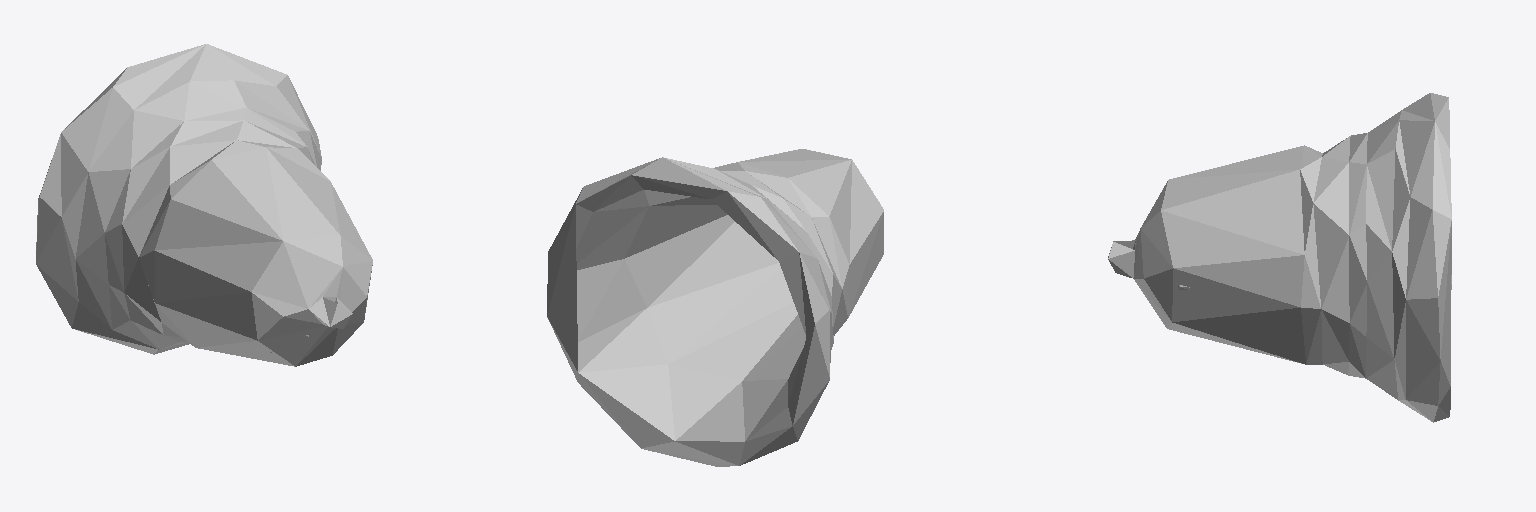
File: bell.obj
3 renders of one model, left to right at view 1: azimuth 30°, elevation 25°; view 2: azimuth 150°, elevation 25°; view 3: azimuth 270°, elevation 25°, orthographic.
Parts seen in each view (by area): view 1: Bell; view 2: Bell; view 3: Bell.
Boxes of the visible parts, x1,y1,x2,y2 form: Bell: [36, 44, 372, 366]; Bell: [547, 149, 883, 466]; Bell: [1108, 93, 1451, 422].
Size of the model in its own units: 0.941 by 0.9464 by 0.9916.